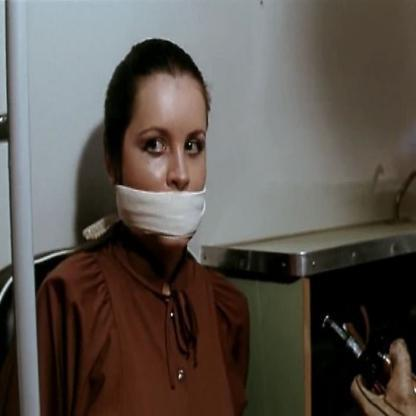gun: (311, 291, 400, 394)
